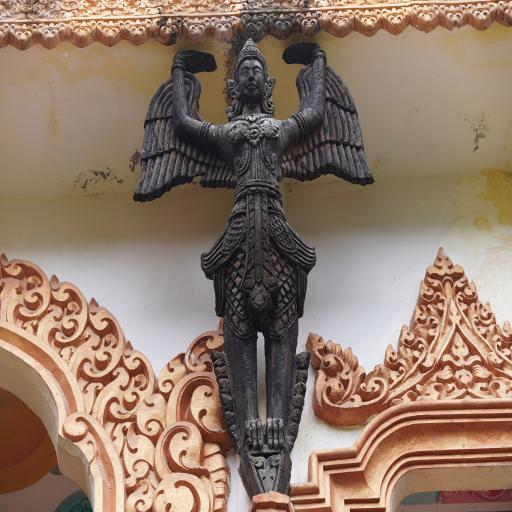la: (123, 322, 238, 511), (391, 332, 510, 408), (305, 329, 389, 425), (57, 410, 129, 512), (92, 335, 154, 451), (76, 289, 127, 386), (37, 272, 89, 364), (0, 252, 52, 338), (423, 244, 466, 280), (152, 17, 185, 47), (182, 15, 212, 48), (239, 13, 269, 44), (68, 20, 98, 50), (210, 14, 239, 44), (410, 5, 440, 34), (466, 3, 496, 32), (124, 18, 153, 47), (381, 7, 410, 36), (38, 24, 68, 52), (268, 12, 296, 42), (354, 8, 382, 38), (324, 11, 355, 38), (97, 19, 125, 48), (296, 12, 324, 40), (439, 4, 467, 32), (10, 24, 37, 52), (393, 321, 417, 352), (445, 298, 466, 333), (414, 280, 439, 307), (478, 298, 498, 330), (460, 276, 481, 306), (381, 342, 401, 368), (408, 306, 428, 330), (500, 315, 512, 351), (496, 1, 512, 27), (0, 23, 10, 49)
than: (131, 35, 376, 512)
